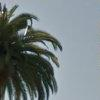Palm tree: (2, 4, 59, 98)
